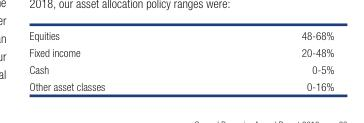table: (28, 29, 333, 91)
table column: (28, 29, 202, 91), (202, 29, 333, 91)
table row: (28, 43, 333, 60), (28, 60, 333, 77), (28, 29, 333, 43), (28, 77, 333, 91)
